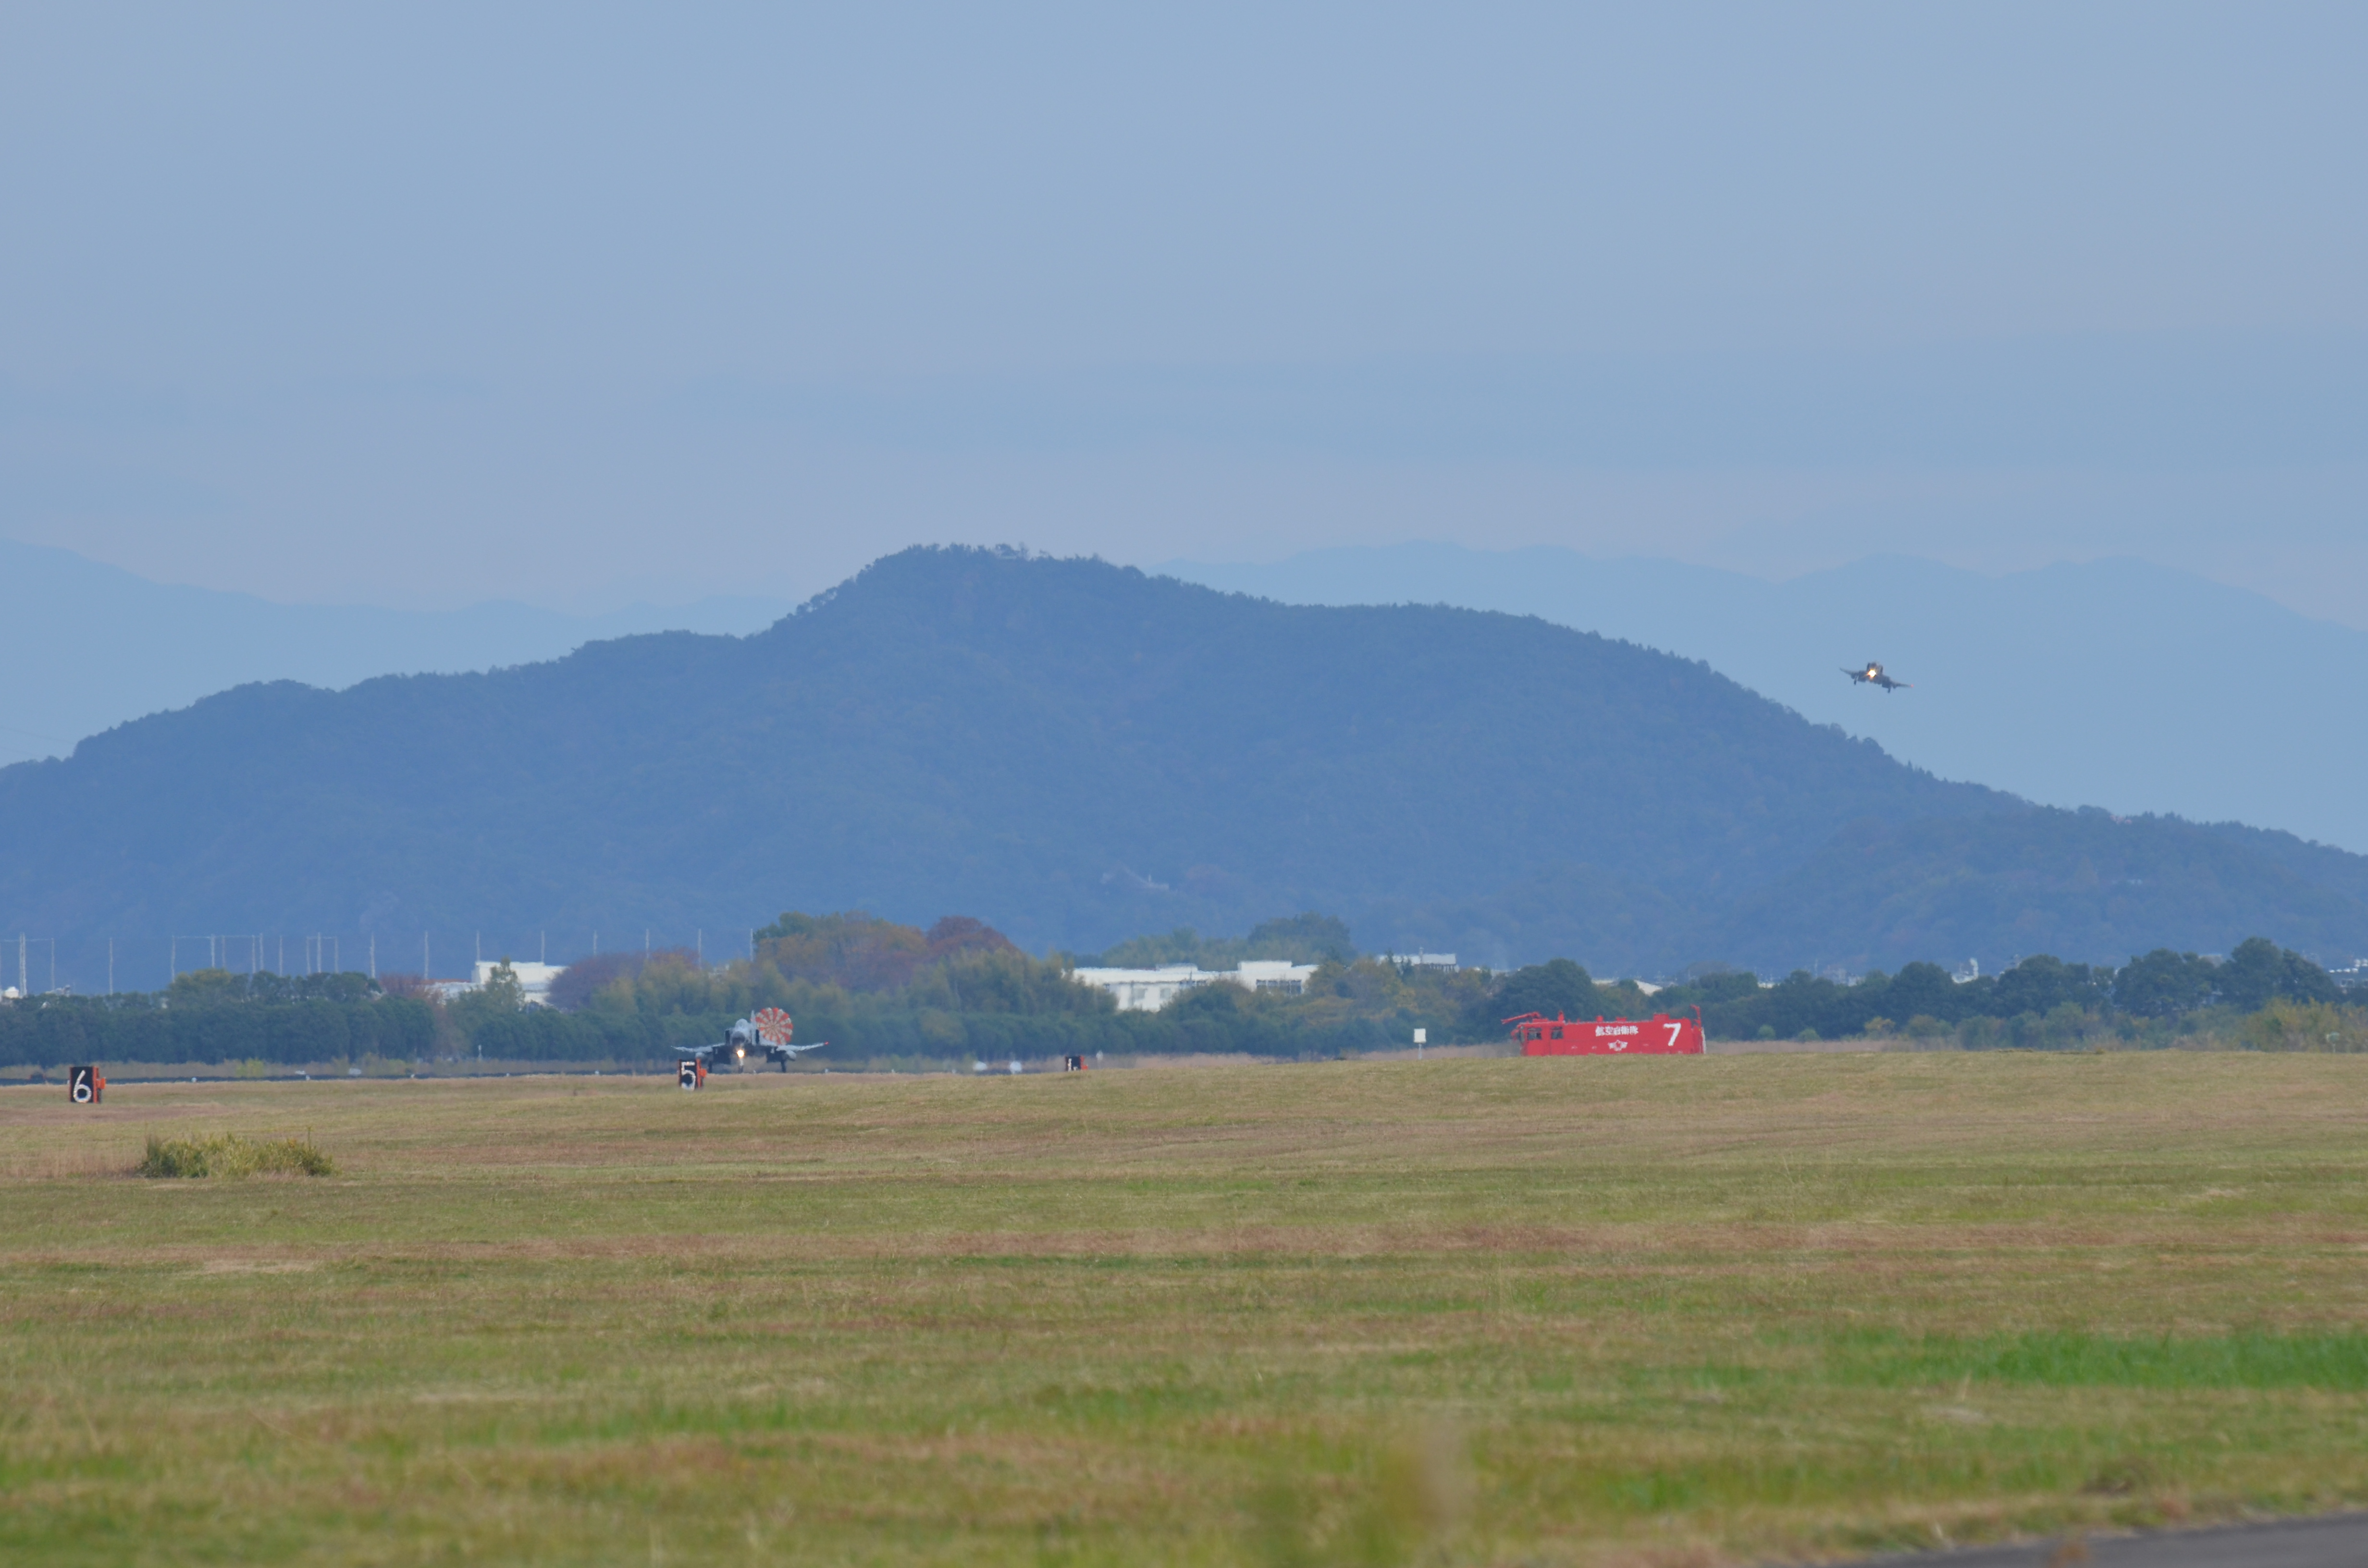F4: (670, 1008, 830, 1073), (1838, 658, 1915, 693)
